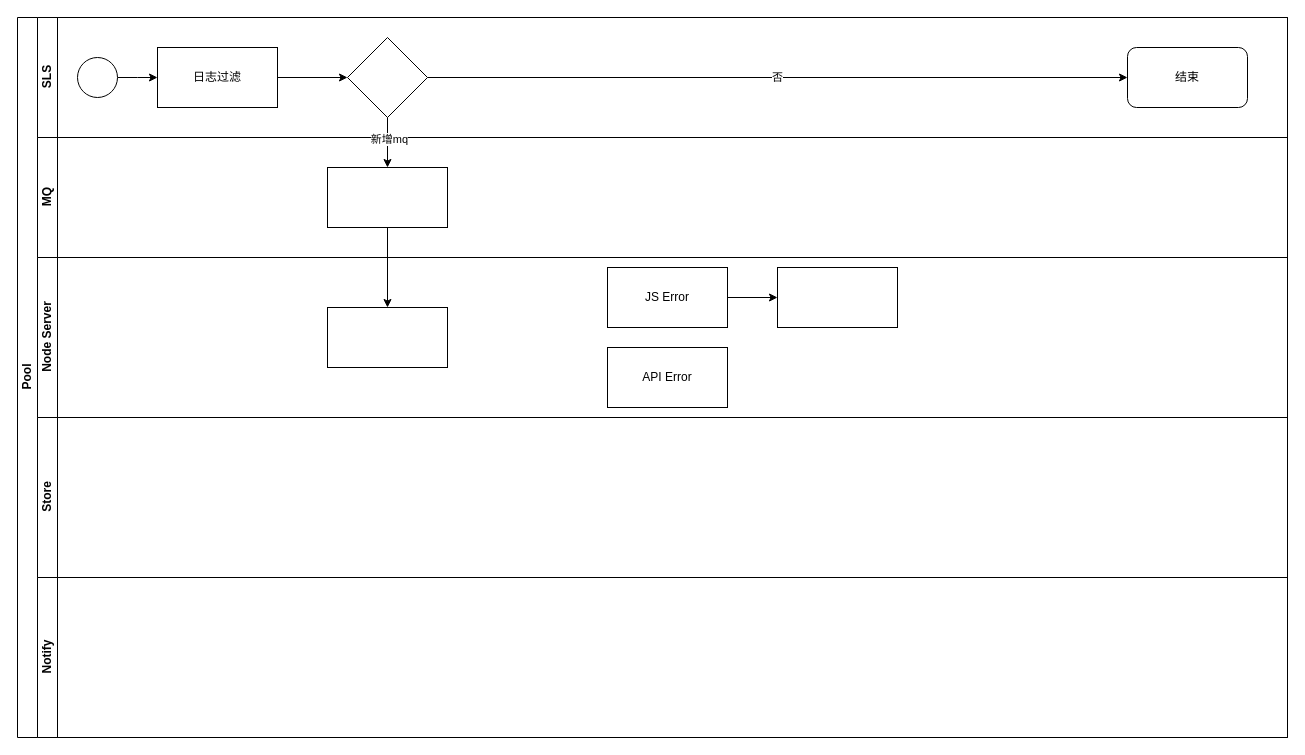
Image size: 1305x755. Some labels were removed from this diagram. Here are the shapes that lost their labels. From the top down, the centre of each, then its label:
At (x=97, y=77): "New".
At (x=387, y=77): "JS/API Error".
At (x=387, y=197): "MQ 队列".
At (x=837, y=297): "代码反解".
At (x=387, y=337): "MQ消费".
